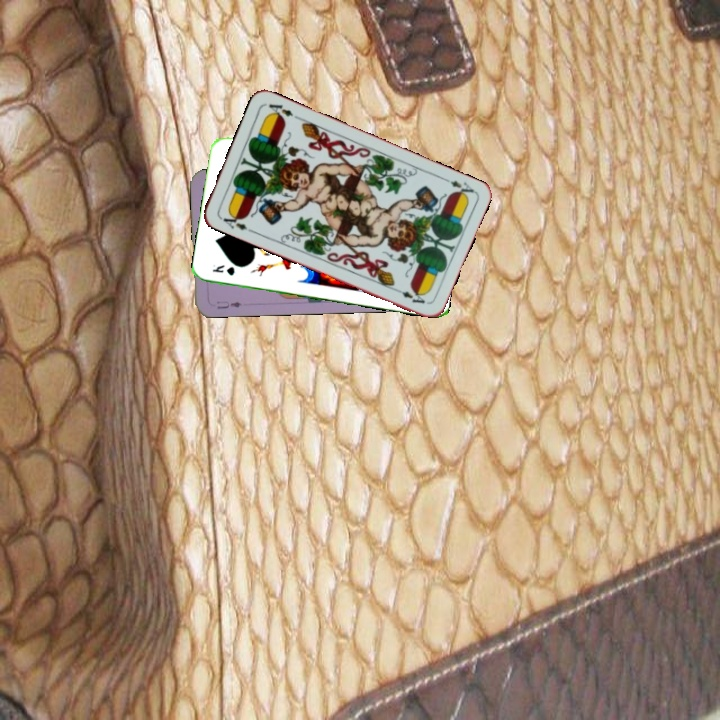EA: (438, 173, 476, 200), (216, 208, 250, 233)
EU: (212, 297, 244, 311)
GK: (209, 261, 237, 278)
